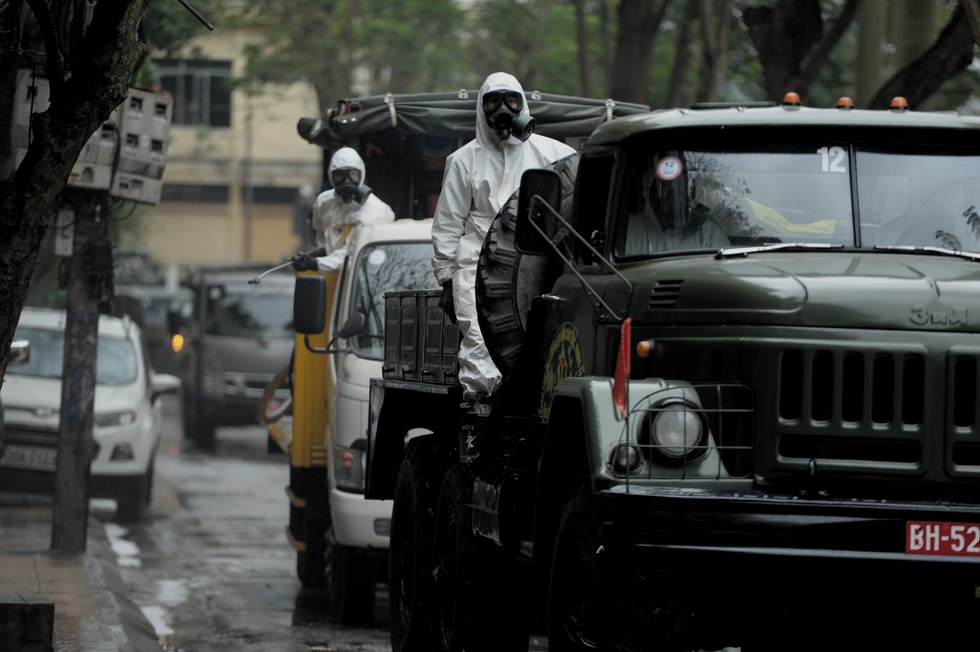plate: (896, 514, 980, 559)
